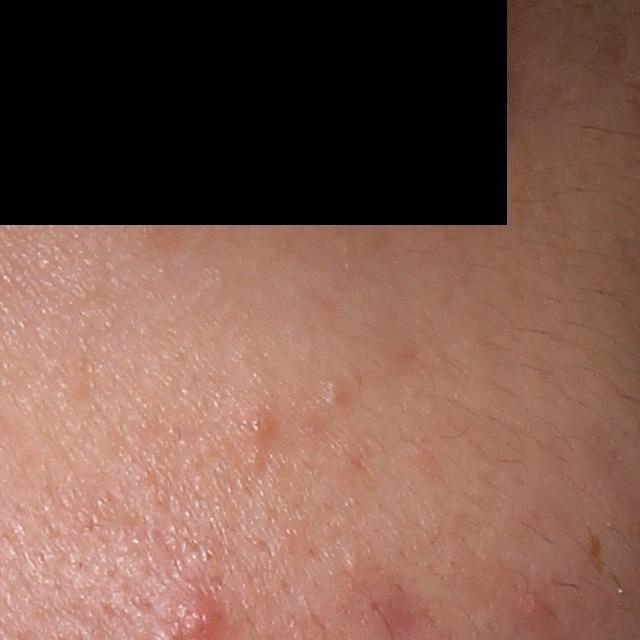comedo: (240, 408, 275, 441), (323, 382, 346, 406)
melasma: (584, 528, 606, 571)
